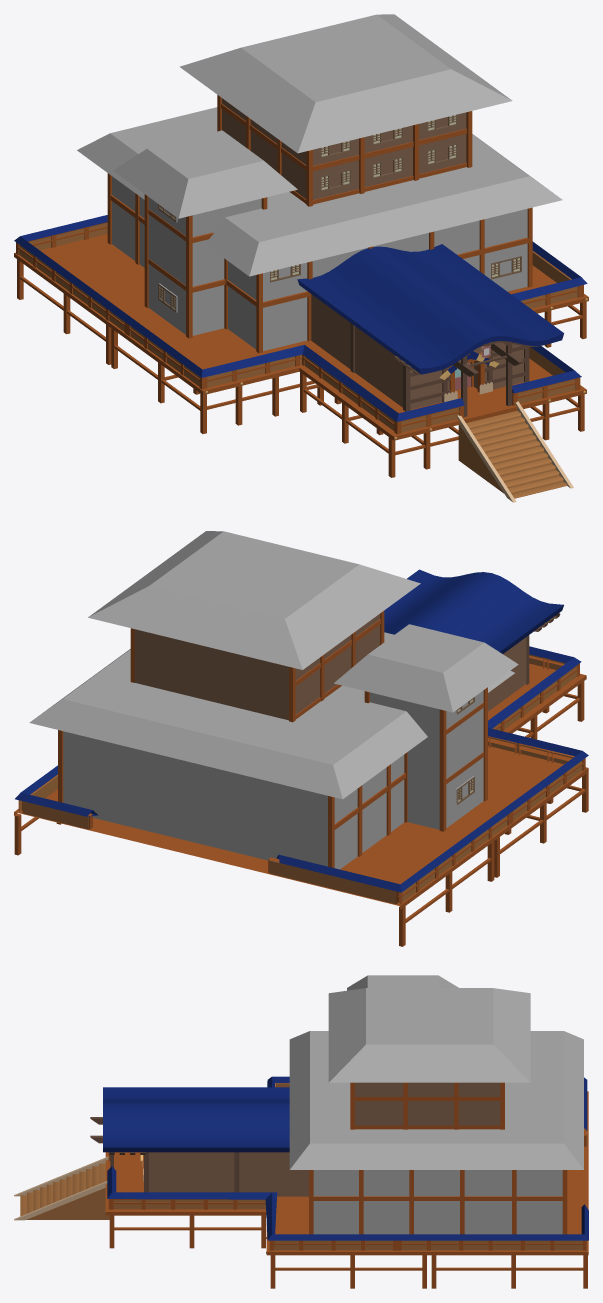
File: DivinerCastleRedesign.fbx
The picture shows the model from 3 angles, top to bottom: view 1: azimuth 30°, elevation 25°; view 2: azimuth 150°, elevation 25°; view 3: azimuth 270°, elevation 25°; orthographic projection. The views are drawn at different scales.
Parts seen in each view (by area): view 1: TopRoof, BottomRoof, SwampStruts, CurvedRoof, BuildingCore, StructuralBeams, MiddleRoof, PlatformWalls, BuildingTopper, BuildingTower, WallTopper, FrontBuilding (+4 smaller); view 2: BottomRoof, TopRoof, BuildingCore, SwampStruts, BuildingTopper, MiddleRoof, CurvedRoof, BuildingTower, PlatformWalls, StructuralBeams, WallTopper, FrontBuilding; view 3: BottomRoof, TopRoof, BuildingCore, CurvedRoof, SwampStruts, FrontBuilding, BuildingTopper, PlatformWalls, StructuralBeams, WallTopper, Stairs, MiddleRoof (+3 smaller).
Part boxes in pixels (x1,y1,x2,y2): TopRoof: (179, 14, 512, 153); BottomRoof: (77, 107, 562, 276); SwampStruts: (14, 234, 588, 477); CurvedRoof: (297, 244, 563, 374); BuildingCore: (112, 176, 527, 350); StructuralBeams: (107, 95, 532, 353); MiddleRoof: (113, 130, 297, 218); PlatformWalls: (16, 222, 583, 434); BuildingTopper: (222, 98, 466, 199); BuildingTower: (148, 197, 261, 335); WallTopper: (14, 215, 587, 421); FrontBuilding: (311, 294, 523, 409); BottomRoof: (29, 632, 514, 799); TopRoof: (88, 531, 420, 669); BuildingCore: (63, 731, 404, 869); SwampStruts: (14, 663, 588, 946); BuildingTopper: (134, 614, 379, 720); MiddleRoof: (334, 624, 518, 712); CurvedRoof: (384, 569, 563, 653); BuildingTower: (370, 690, 483, 829); PlatformWalls: (18, 654, 585, 905); StructuralBeams: (58, 611, 487, 867); WallTopper: (15, 646, 588, 892); FrontBuilding: (488, 637, 526, 711); BottomRoof: (289, 1031, 583, 1169); TopRoof: (328, 988, 530, 1082); BuildingCore: (313, 1170, 562, 1234); CurvedRoof: (103, 1087, 289, 1152); SwampStruts: (105, 1091, 588, 1288); FrontBuilding: (149, 1152, 308, 1196); BuildingTopper: (355, 1082, 500, 1125); PlatformWalls: (108, 1083, 587, 1250); StructuralBeams: (309, 1082, 567, 1234); WallTopper: (107, 1076, 588, 1240); Stairs: (20, 1163, 109, 1219); MiddleRoof: (347, 975, 458, 990).
Bounding box in the file's own units: 401 × 245 × 606.
